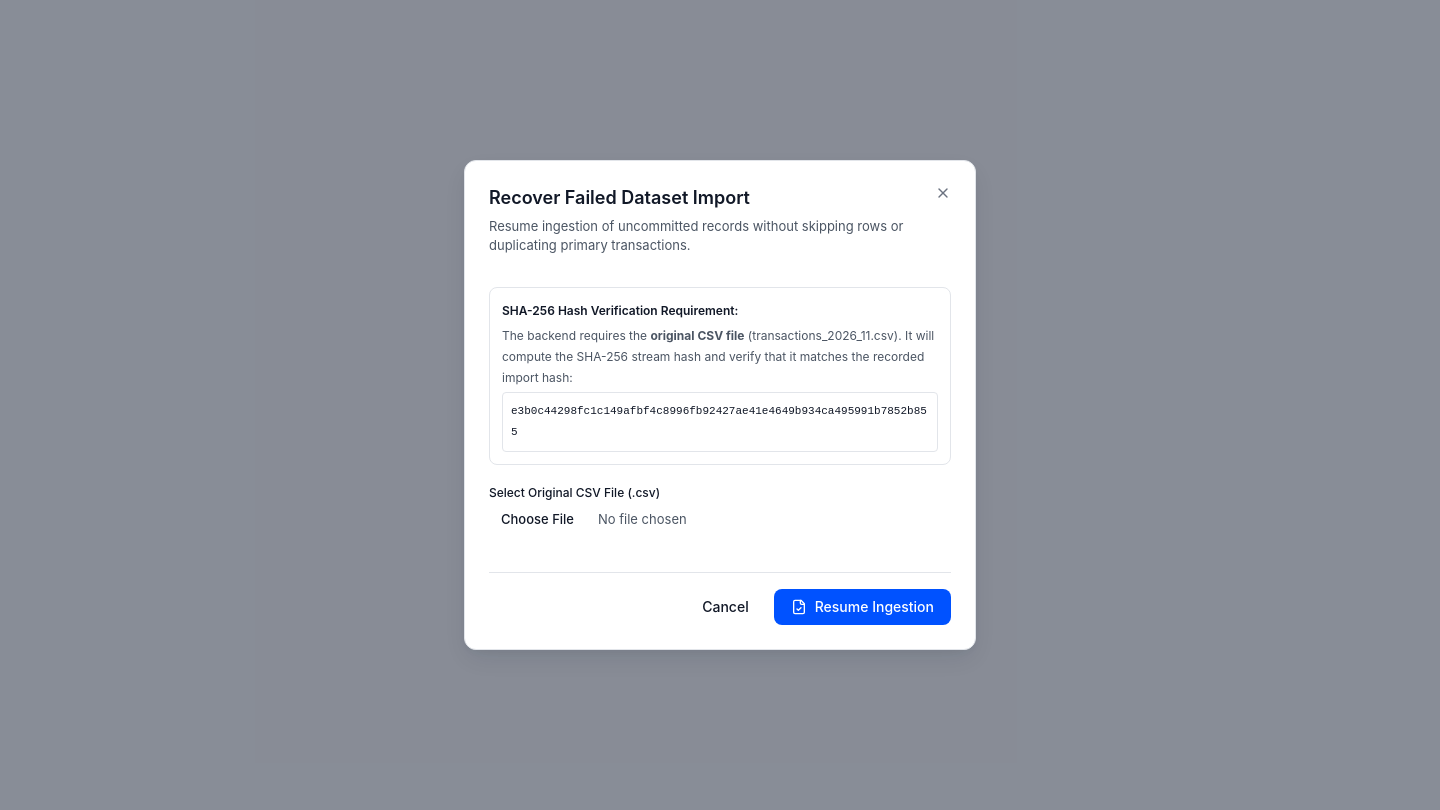
Test: DatasetRecoveryDialog component (F4.5) › handles 422 hash mismatch error cleanly in modal alert
Earlier steps of the test are not shown.
Click the button "Resume Ingestion".
click(862, 607)  # box left=774, top=589, right=951, bottom=625
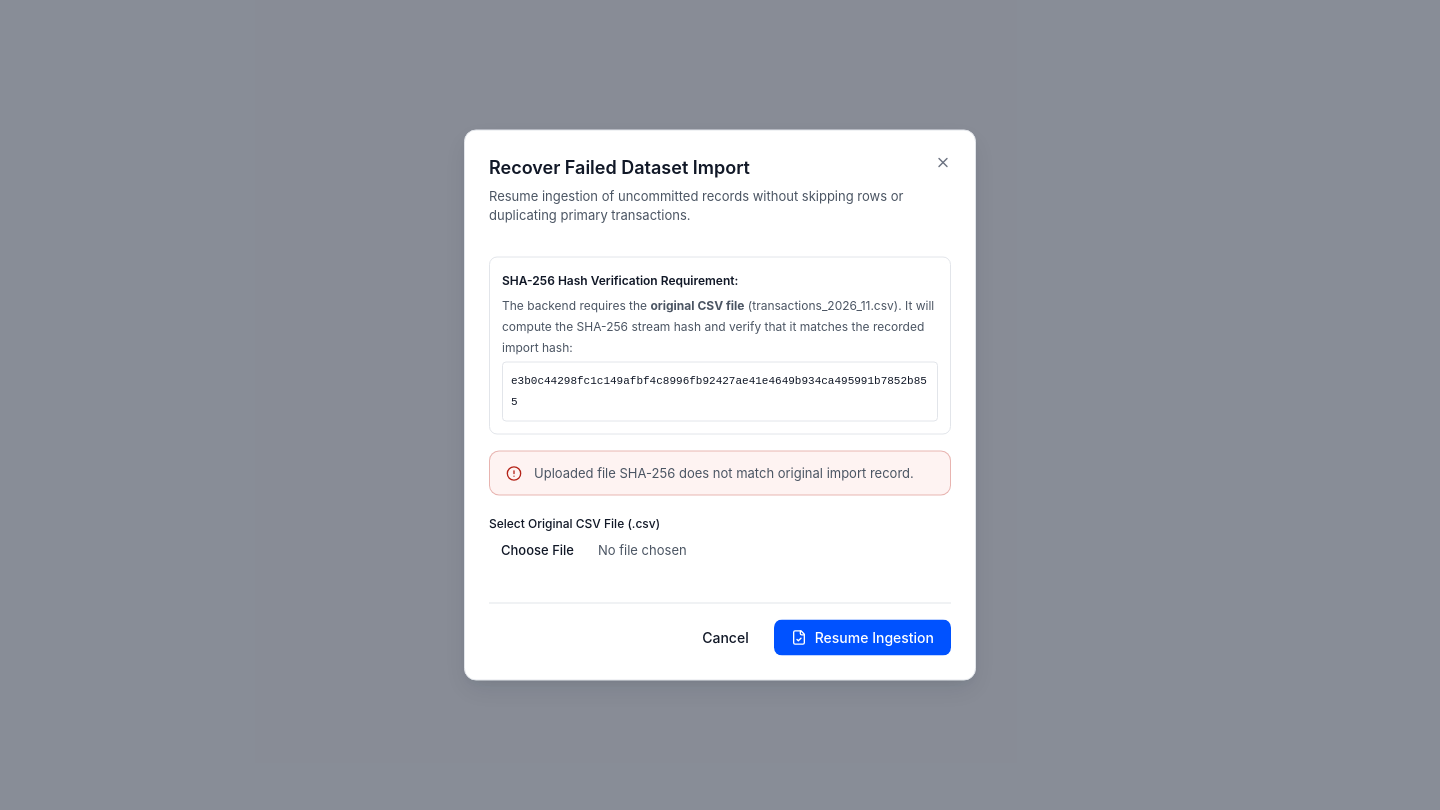
Result: the message named "recovery hash mismatch" is shown at left=489, top=450, right=951, bottom=496
Result: the text "Uploaded file SHA-256 does not match original import record." is shown at left=534, top=464, right=934, bottom=482
